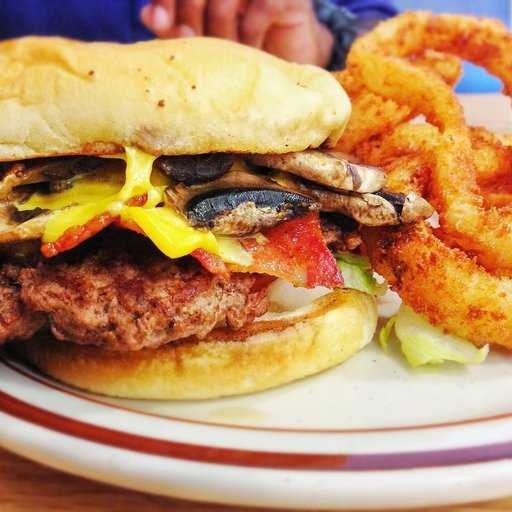hamburger: (22, 23, 365, 397)
